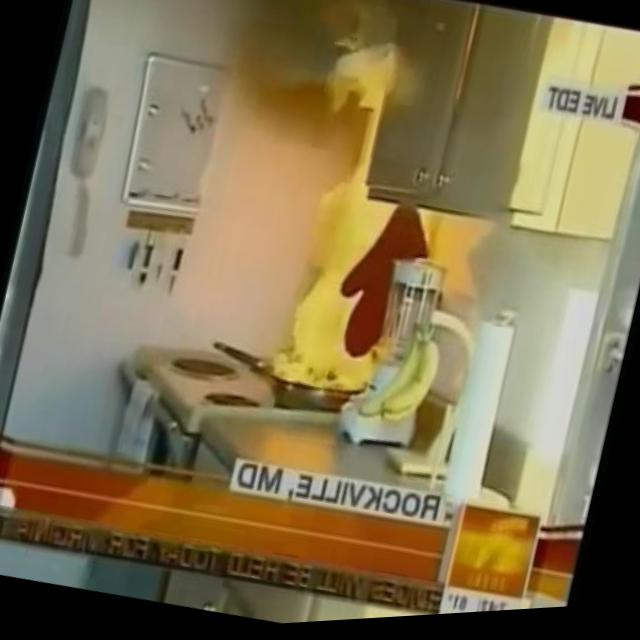fire: (267, 191, 428, 409), (277, 38, 394, 210)
